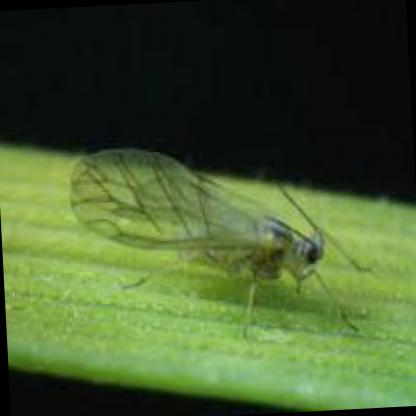schizaphis graminum: (66, 148, 323, 283)
